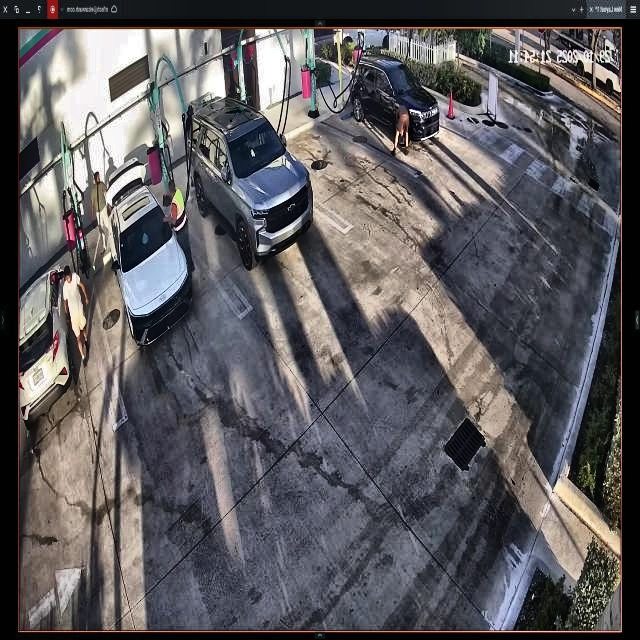Car: (187, 95, 313, 265), (108, 169, 191, 347), (351, 60, 439, 140)
